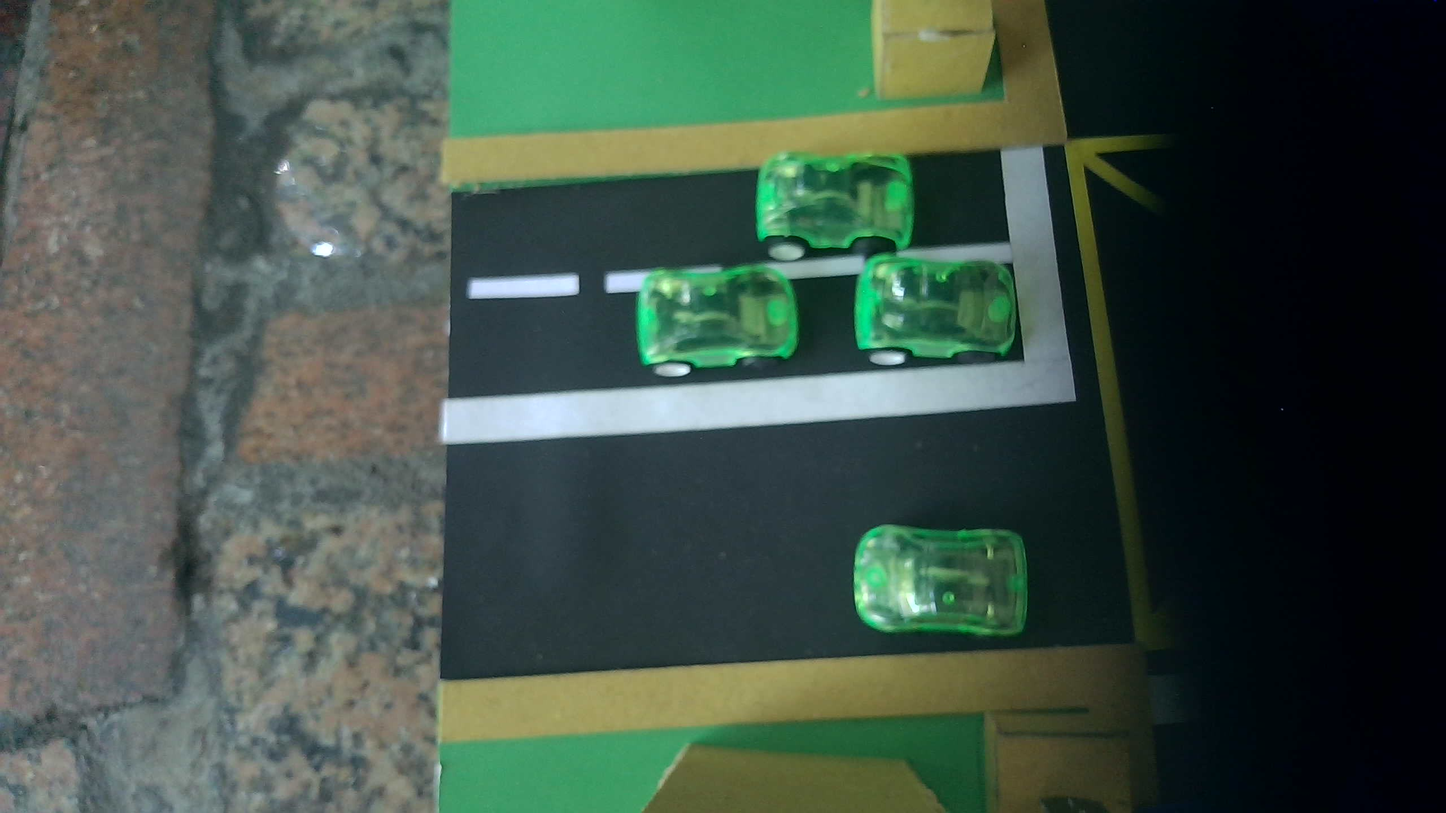Mobil hijau: (854, 254, 1018, 365), (636, 265, 798, 377), (756, 152, 914, 260)
